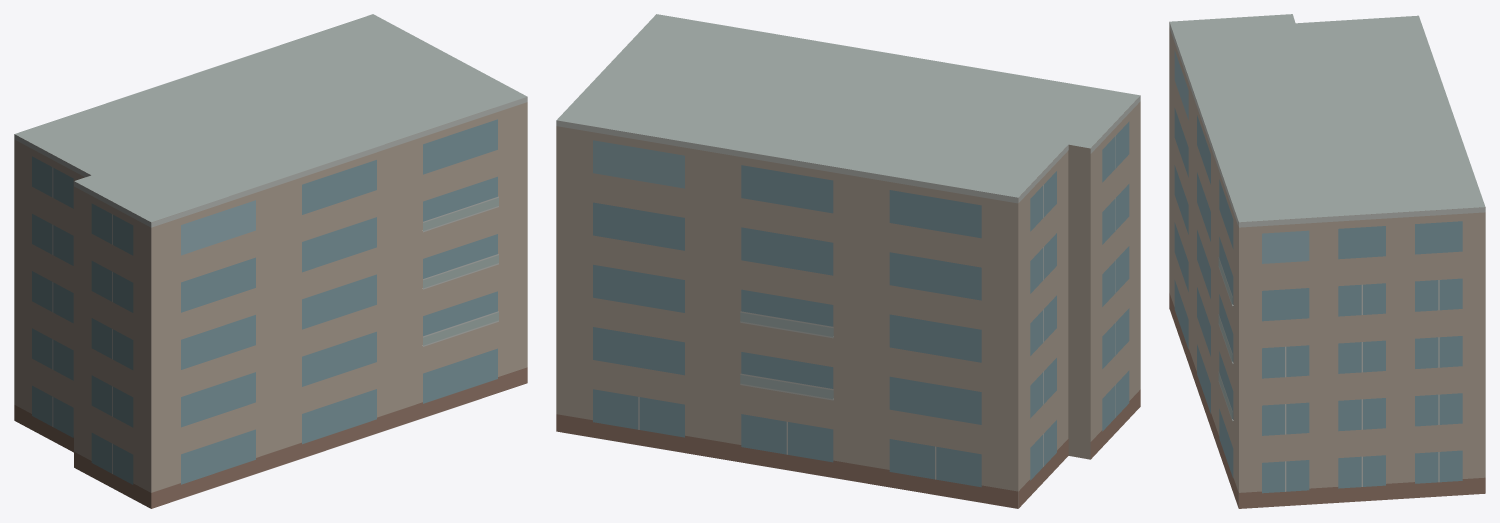
The model's file is survey-upis-32716270.glb.
3 views of the same model, side by side, from view 1: azimuth 30°, elevation 25°; view 2: azimuth 150°, elevation 25°; view 3: azimuth 270°, elevation 25° (orthographic). The views are drawn at different scales.
Visible parts, largest first — view 1: survey-upis-32716270.tmp; view 2: survey-upis-32716270.tmp; view 3: survey-upis-32716270.tmp.
Part boxes in pixels (<box>): survey-upis-32716270.tmp: <box>14,14,527,508</box>; survey-upis-32716270.tmp: <box>556,14,1140,508</box>; survey-upis-32716270.tmp: <box>1169,14,1485,508</box>.
Bounding box in the file's own units: 20.42 × 13.1 × 13.11.
